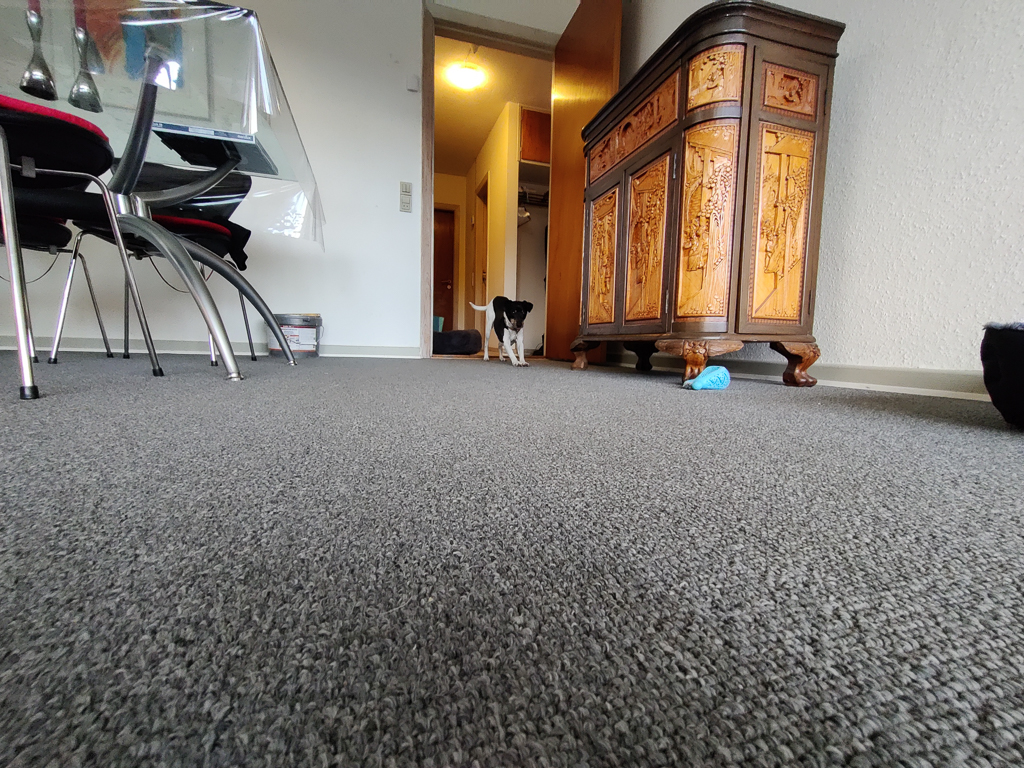Dog: (464, 286, 536, 370)
